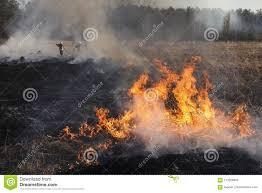fire: (122, 53, 255, 135)
